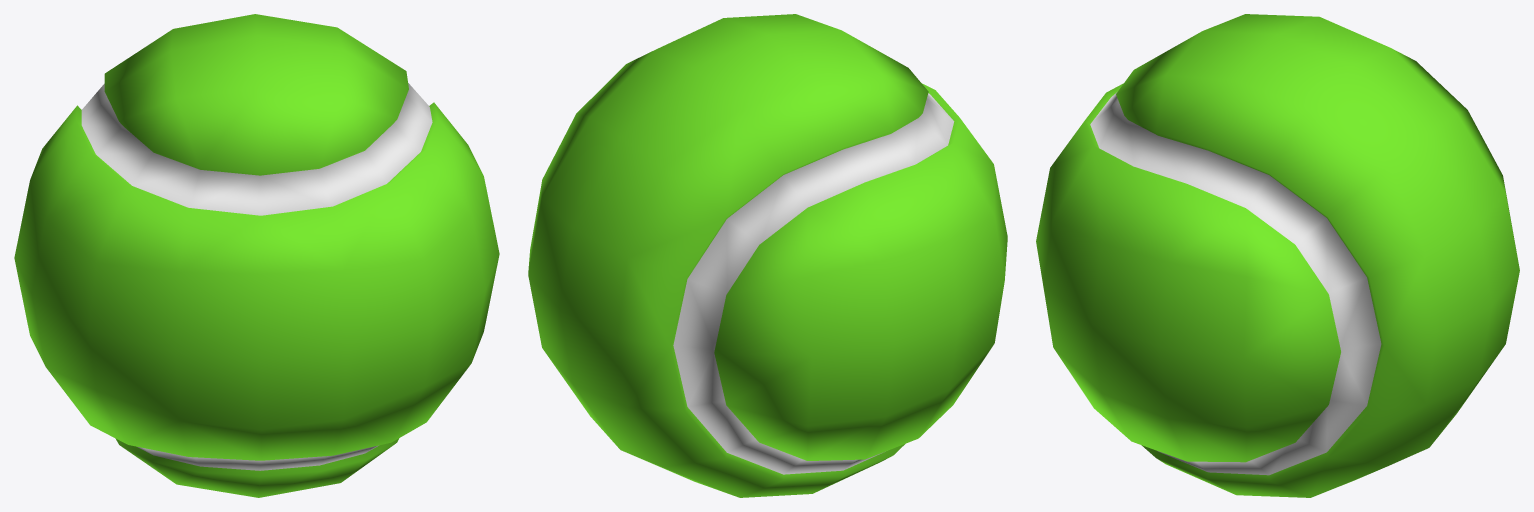
The model's file is ball.dae.
The picture shows the model from 3 angles, left to right: view 1: azimuth 30°, elevation 25°; view 2: azimuth 150°, elevation 25°; view 3: azimuth 270°, elevation 25°; orthographic projection.
Parts seen in each view (by area): view 1: tennisball; view 2: tennisball; view 3: tennisball.
Part boxes in pixels (x1,y1,x2,y2): tennisball: (14,14,499,497); tennisball: (528,14,1007,497); tennisball: (1036,14,1519,497).
Bounding box in the file's own units: 1.98 × 1.98 × 2.
